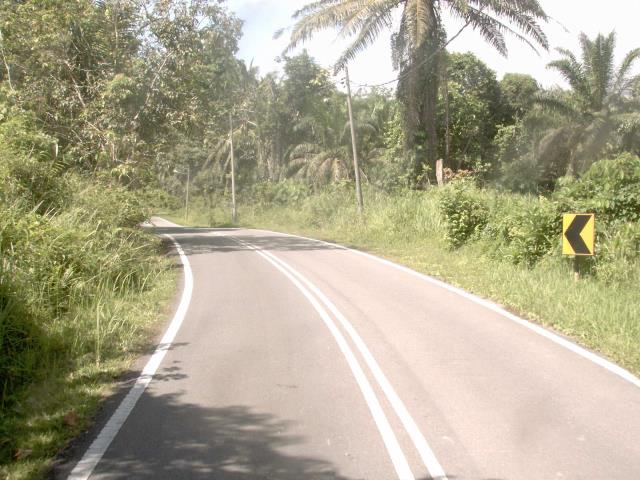traffic_sign: (553, 204, 604, 266)
